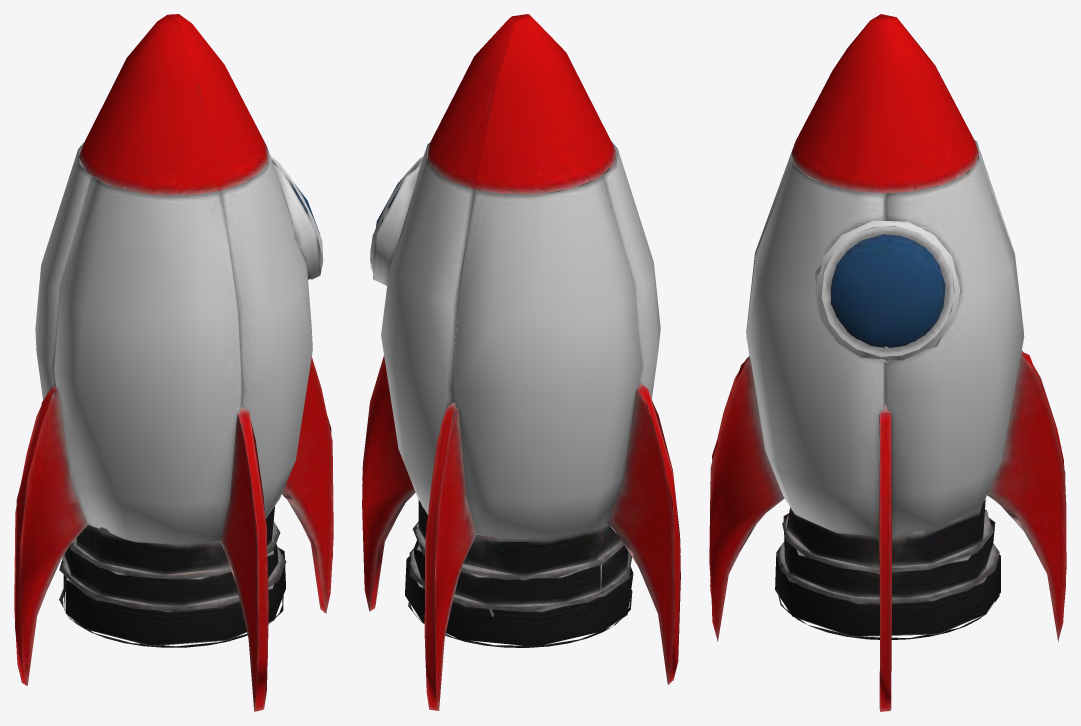
Rendered from toy-rocket.glb.
The picture shows the model from 3 angles, left to right: view 1: azimuth 30°, elevation 25°; view 2: azimuth 150°, elevation 25°; view 3: azimuth 270°, elevation 25°; orthographic projection.
Visible parts, largest first — view 1: Toy Rocket; view 2: Toy Rocket; view 3: Toy Rocket.
Part boxes in pixels (x1,y1,x2,y2): Toy Rocket: (14,14,333,711); Toy Rocket: (362,14,680,710); Toy Rocket: (709,14,1066,711).
Bounding box in the file's own units: 0.2608 × 0.5002 × 0.2608.
Materials: 1 (1 with a texture image).
